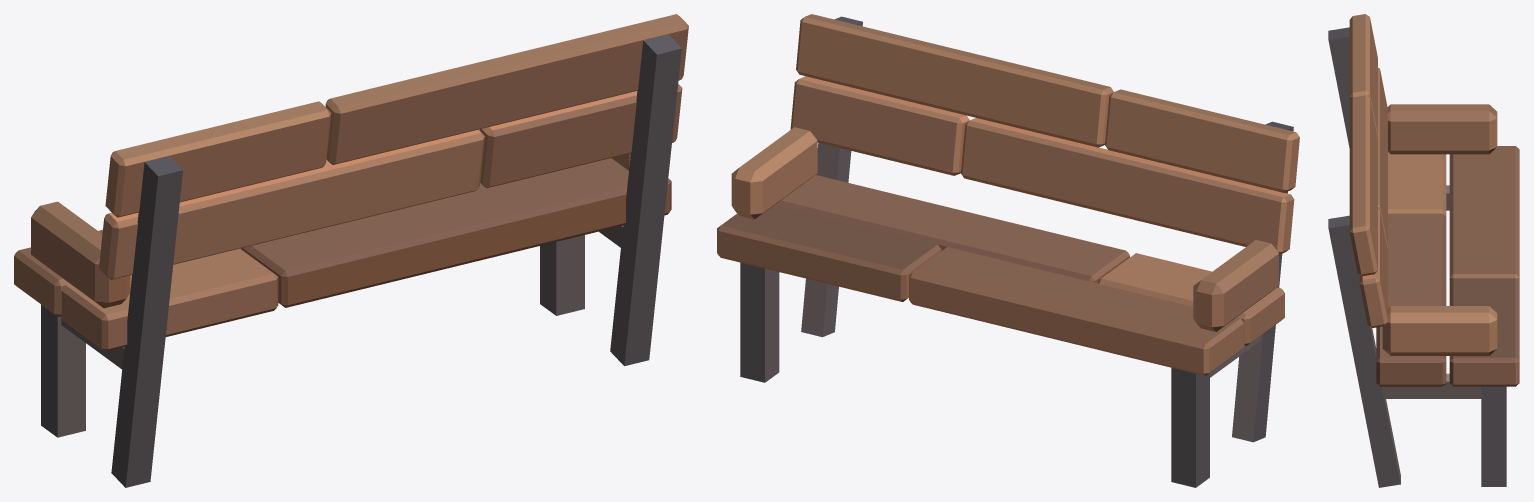
The model's file is seat_bench_v2.glb.
3 views of the same model, side by side, from view 1: azimuth 30°, elevation 25°; view 2: azimuth 150°, elevation 25°; view 3: azimuth 270°, elevation 25° (orthographic). The views are drawn at different scales.
Visible parts, largest first — view 1: body; view 2: body; view 3: body.
Part boxes in pixels (left/top/right/bottom): body: left=14, top=14, right=688, bottom=487; body: left=717, top=14, right=1299, bottom=487; body: left=1328, top=14, right=1519, bottom=487.
Bounding box in the file's own units: 1.6 × 0.9333 × 0.6004.
